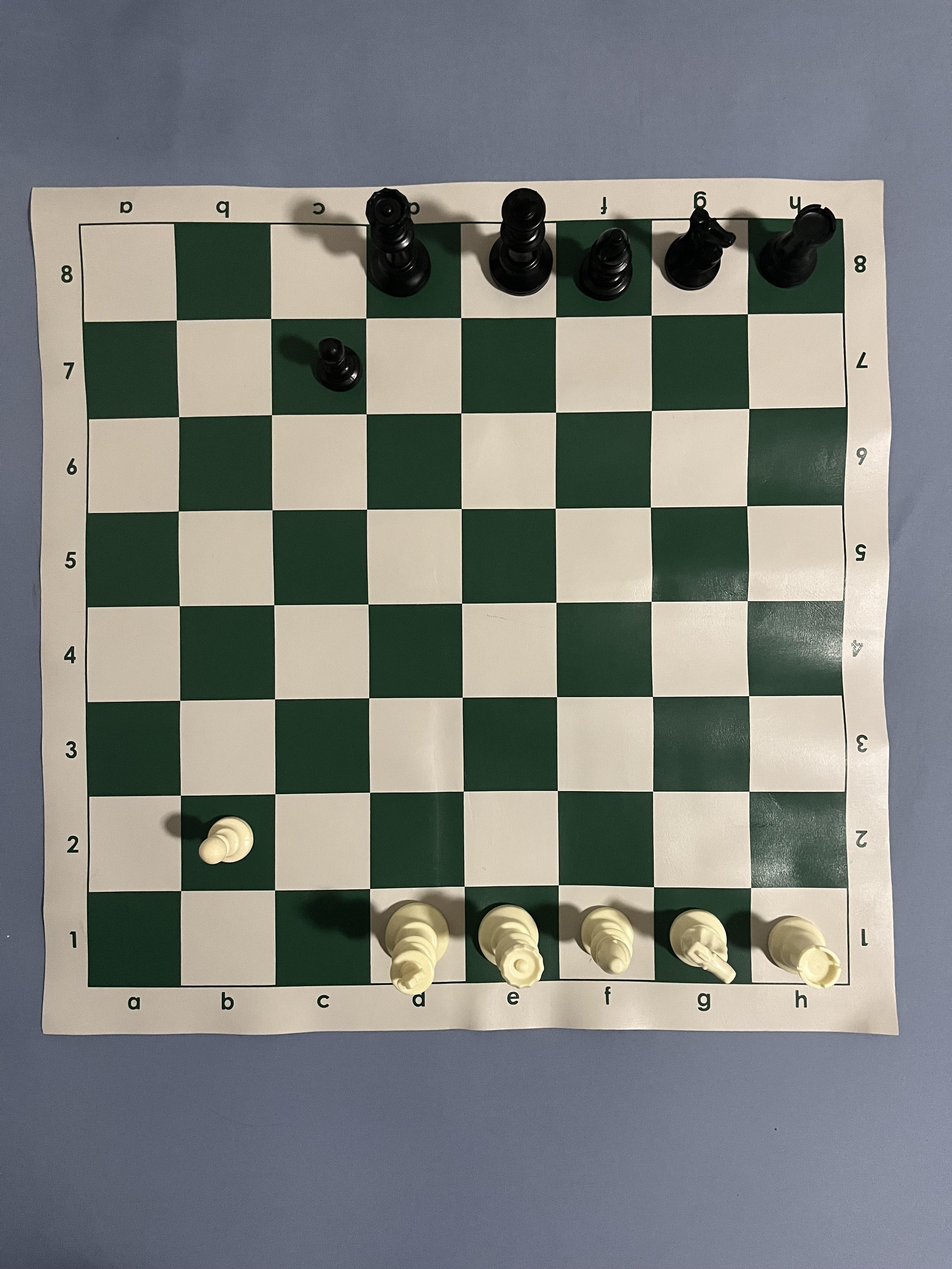black_bishop: (578, 226, 633, 301)
black_king: (489, 188, 553, 297)
black_knight: (665, 205, 736, 290)
black_pawn: (314, 337, 363, 392)
black_queen: (365, 188, 431, 297)
black_rook: (757, 203, 837, 290)
white_bishop: (581, 905, 635, 976)
white_king: (384, 900, 449, 996)
white_knight: (669, 909, 737, 985)
white_pawn: (198, 815, 254, 865)
white_queen: (477, 903, 545, 990)
white_rook: (767, 916, 842, 990)
